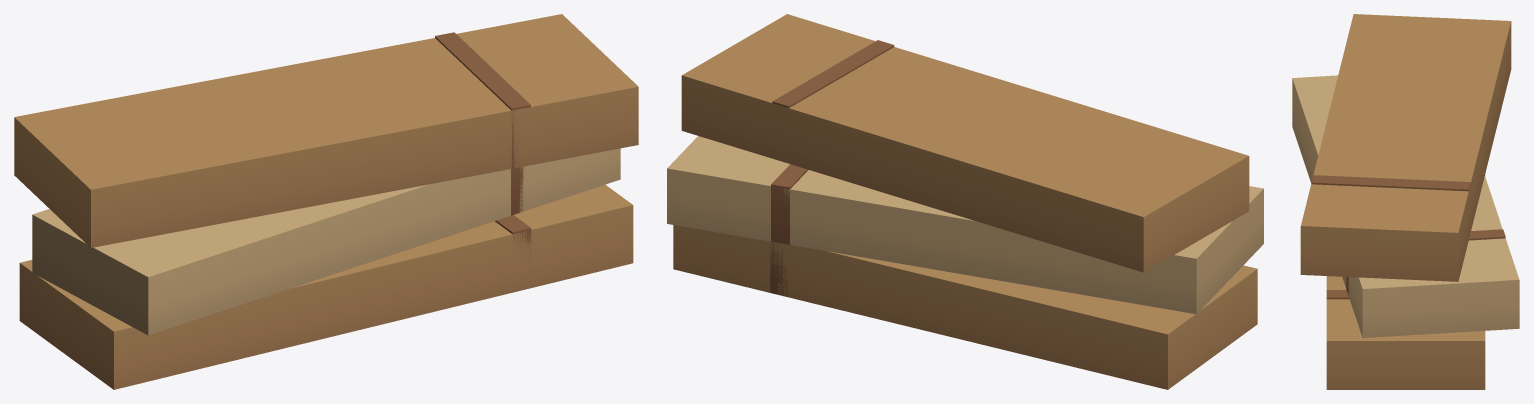
The model's file is item_plank.glb.
3 views of the same model, side by side, from view 1: azimuth 30°, elevation 25°; view 2: azimuth 150°, elevation 25°; view 3: azimuth 270°, elevation 25° (orthographic). The views are drawn at different scales.
Visible parts, largest first — view 1: item_plank; view 2: item_plank; view 3: item_plank.
Boxes of the visible parts, x1=… form: item_plank: x1=14, y1=14, x2=638, y2=389; item_plank: x1=667, y1=14, x2=1263, y2=389; item_plank: x1=1292, y1=14, x2=1519, y2=389.
Bounding box in the file's own units: 1.45 × 0.495 × 0.6306.
1 material, 1 textured.
